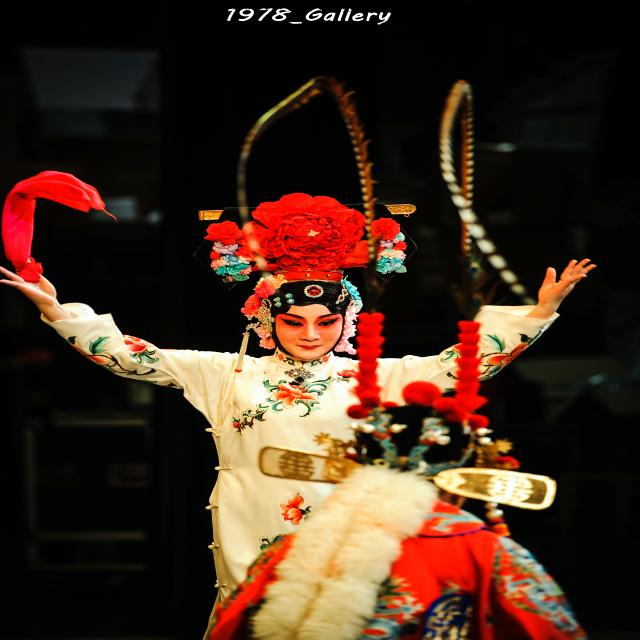Reeves-s Pheasant: (237, 76, 378, 234), (439, 80, 533, 304)
